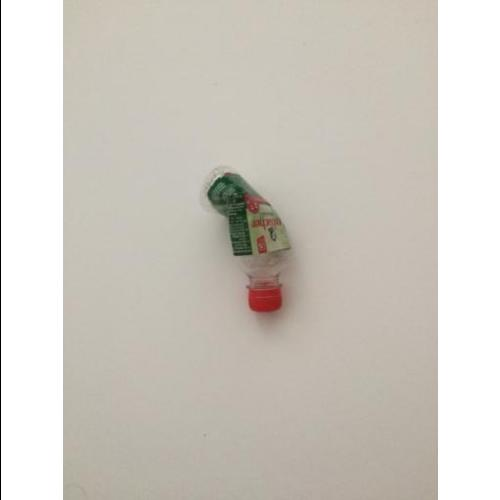plastic: (201, 164, 291, 312)
